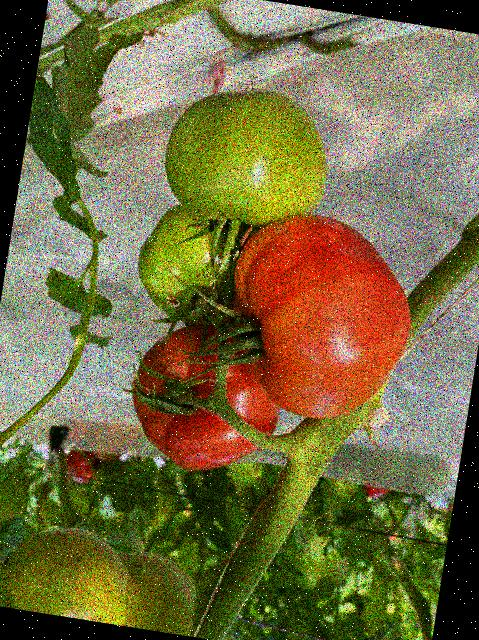b_fully_ripened: (212, 202, 425, 431), (119, 312, 292, 483)
b_green: (155, 73, 339, 237), (127, 197, 260, 334), (0, 517, 139, 626), (104, 548, 208, 637)
